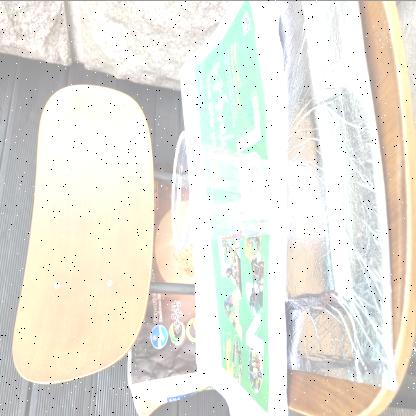Others: (168, 124, 288, 254)
